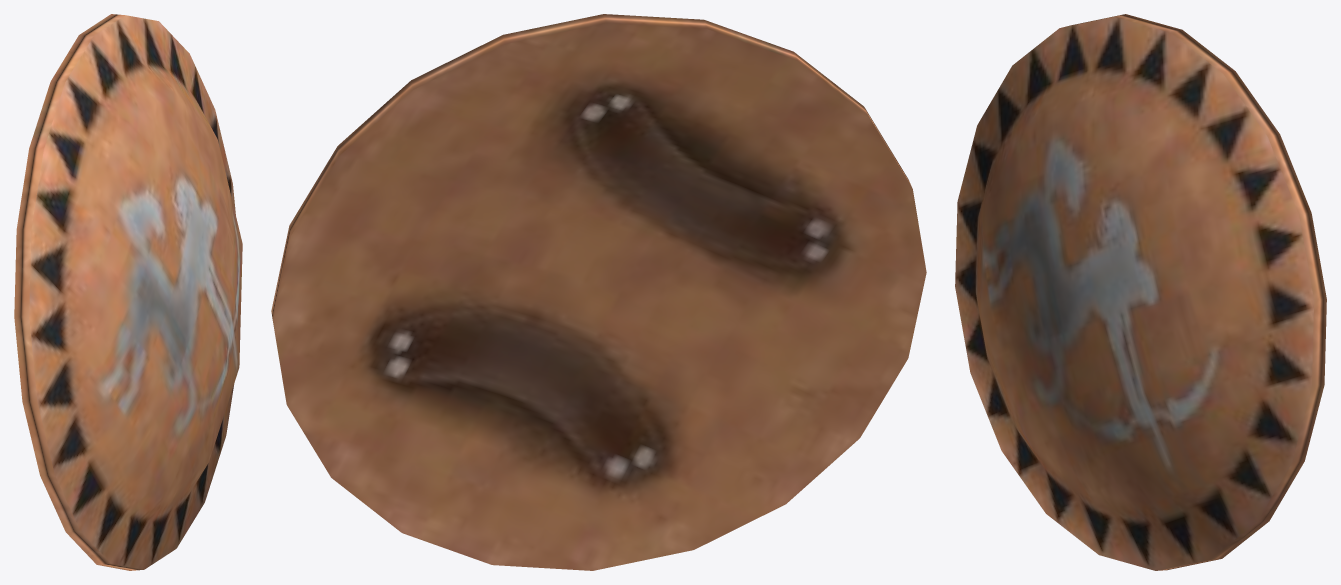
Rendered from shield-bronzeshields.glb.
The picture shows the model from 3 angles, left to right: view 1: azimuth 30°, elevation 25°; view 2: azimuth 150°, elevation 25°; view 3: azimuth 270°, elevation 25°; orthographic projection. The views are drawn at different scales.
Bounding box in the file's own units: 0.3797 × 0.4765 × 0.3196.
Materials: 1 (1 with a texture image).
